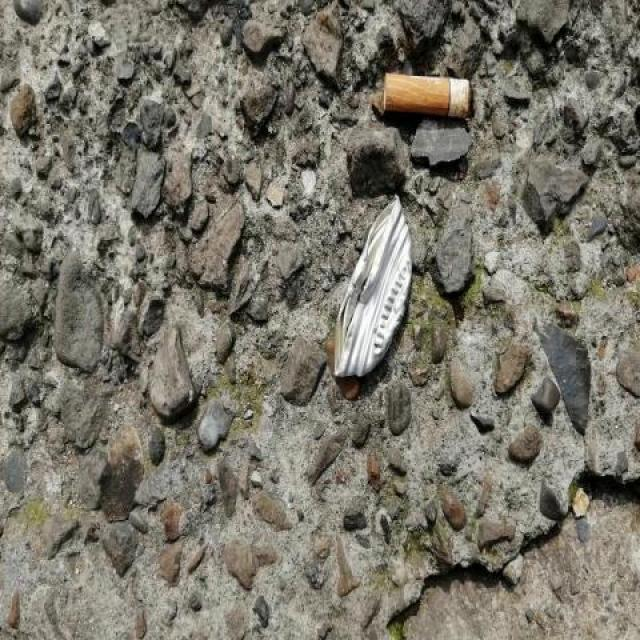non-organic waste: (379, 66, 477, 127)
